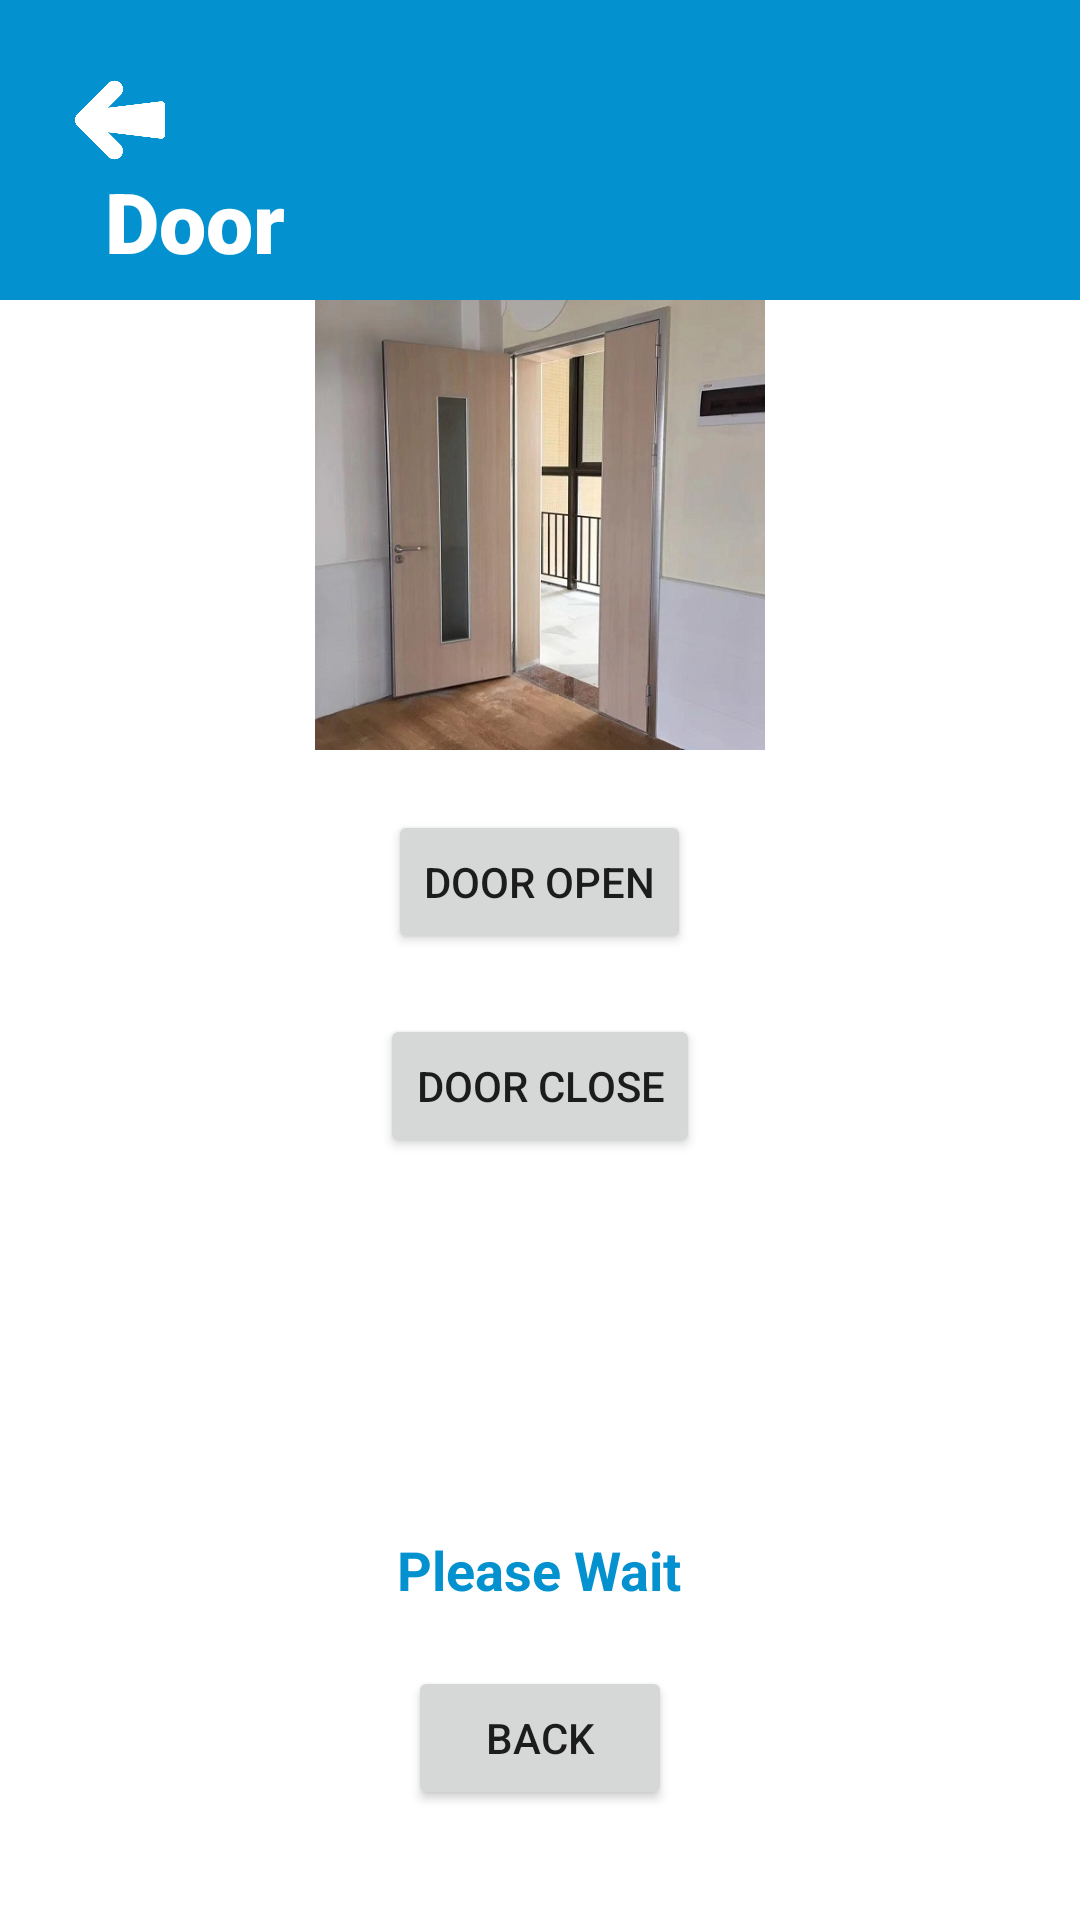

Screen size 1080 x 1920. Icon name, then its center in pixels as [x,y]:
back arrow: [120,120]
